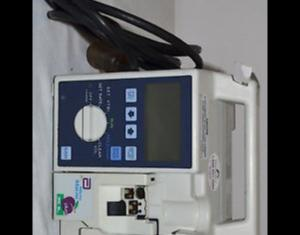plumxl1: (54, 67, 263, 233)
